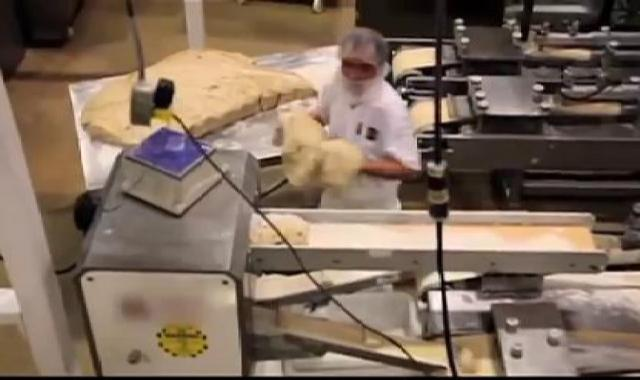hairnet: (329, 25, 401, 83)
